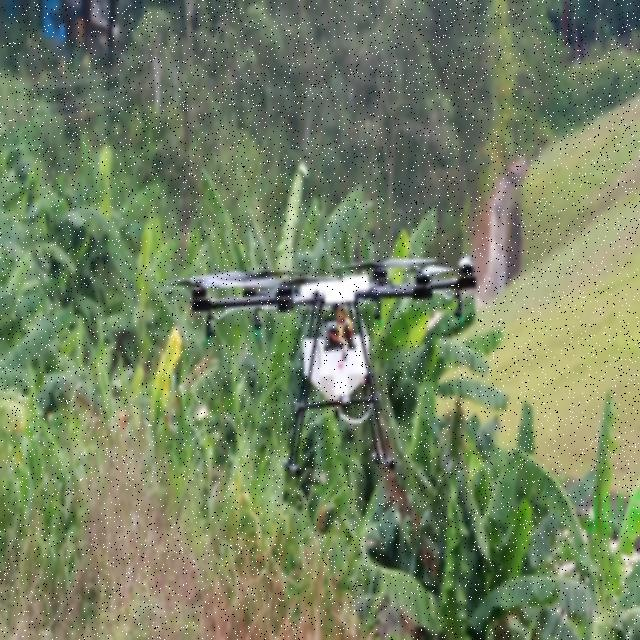UAV: (181, 244, 477, 482)
